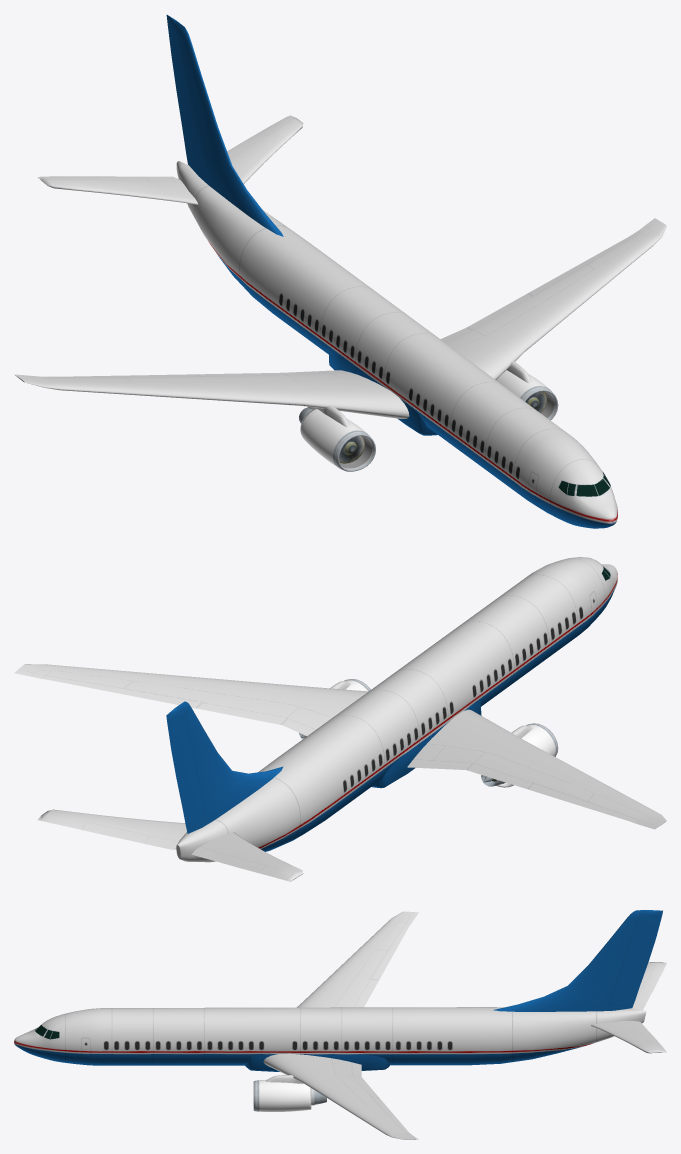
Rendered from aircraft.glb.
3 views of the same model, one above another, from view 1: azimuth 30°, elevation 25°; view 2: azimuth 150°, elevation 25°; view 3: azimuth 270°, elevation 25° (orthographic). The views are drawn at different scales.
Visible parts, largest first — view 1: Aircraft; view 2: Aircraft; view 3: Aircraft.
Part boxes in pixels (bbox=[...]): Aircraft: bbox=[14, 15, 666, 528]; Aircraft: bbox=[14, 557, 666, 881]; Aircraft: bbox=[14, 910, 666, 1139].
Bounding box in the file's own units: 34.02 × 11.68 × 41.23.
1 material, 1 textured.
